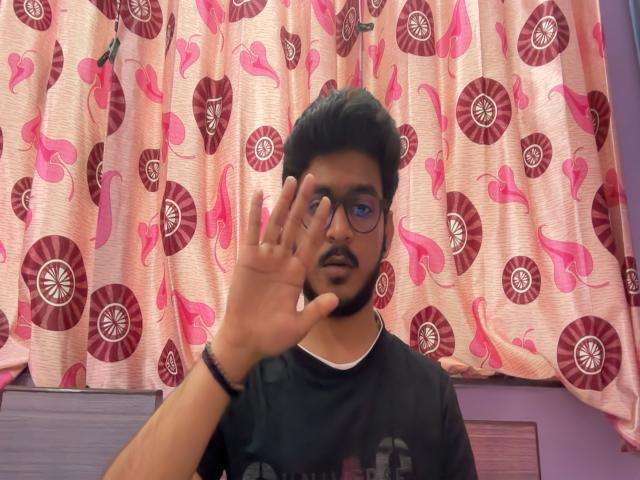Hello: (218, 174, 340, 352)
